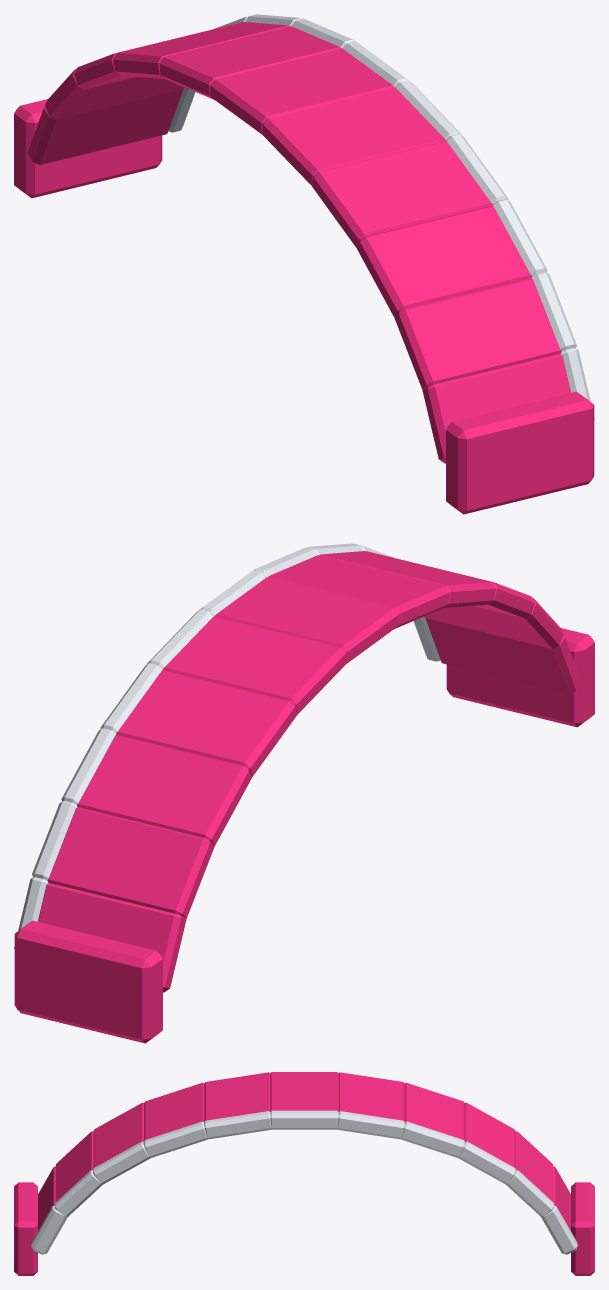
The model's file is fender_extension.glb.
The picture shows the model from 3 angles, top to bottom: view 1: azimuth 30°, elevation 25°; view 2: azimuth 150°, elevation 25°; view 3: azimuth 270°, elevation 25°; orthographic projection. The views are drawn at different scales.
Parts seen in each view (by area): view 1: paint_pink, chrome; view 2: paint_pink, chrome; view 3: paint_pink, chrome.
Boxes of the visible parts, left/top/right/bottom form: paint_pink: left=14, top=22, right=594, bottom=514; chrome: left=168, top=14, right=594, bottom=419; paint_pink: left=14, top=551, right=594, bottom=1043; chrome: left=14, top=543, right=440, bottom=948; paint_pink: left=14, top=1072, right=594, bottom=1275; chrome: left=31, top=1110, right=577, bottom=1254.
Bounding box in the file's own units: 0.3725 × 0.615 × 1.94.
